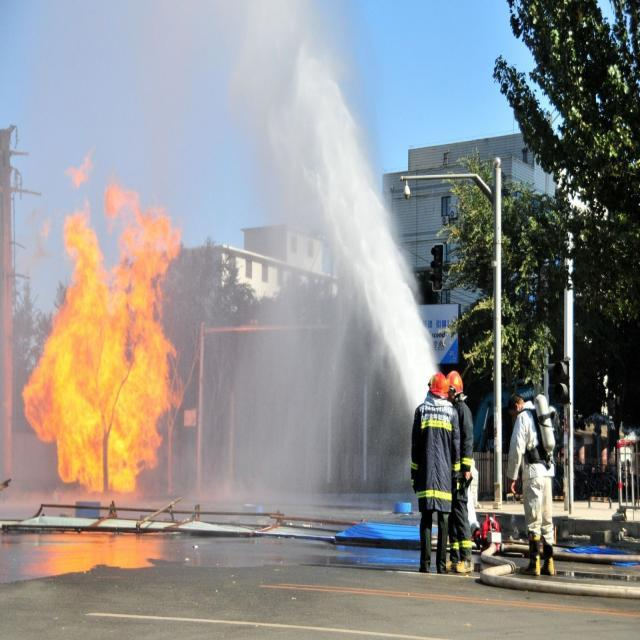Fire: (21, 148, 186, 494)
Smoke: (1, 1, 418, 524)
